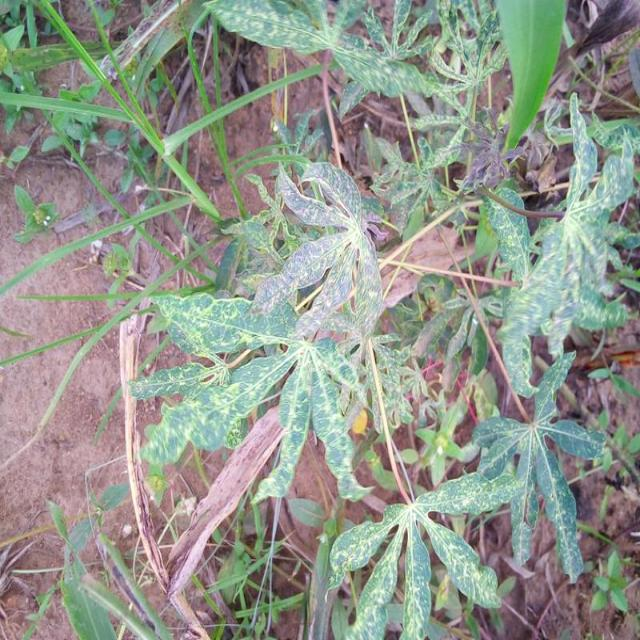cassava leaf: (469, 349, 605, 583), (494, 0, 568, 155)
